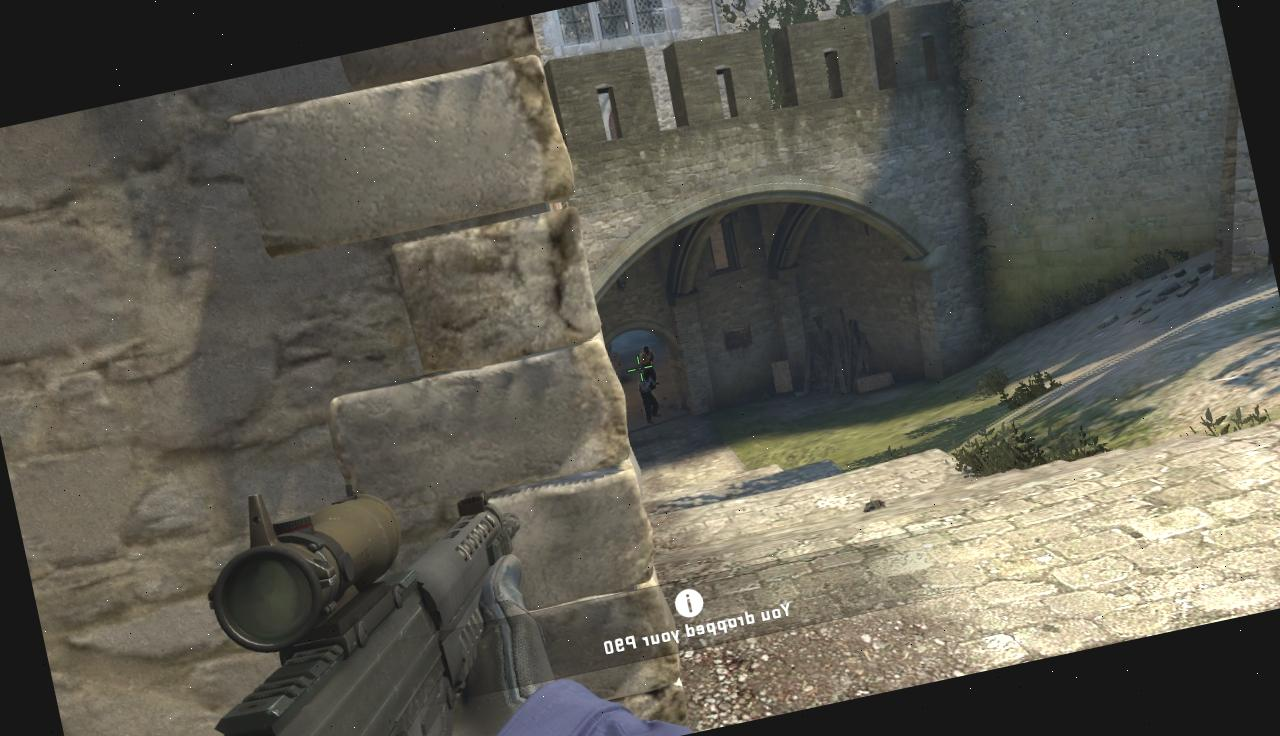rifle: (120, 439, 579, 736)
tt: (634, 372, 664, 424), (637, 346, 658, 380)
tthead: (642, 374, 650, 383), (642, 346, 649, 354)
